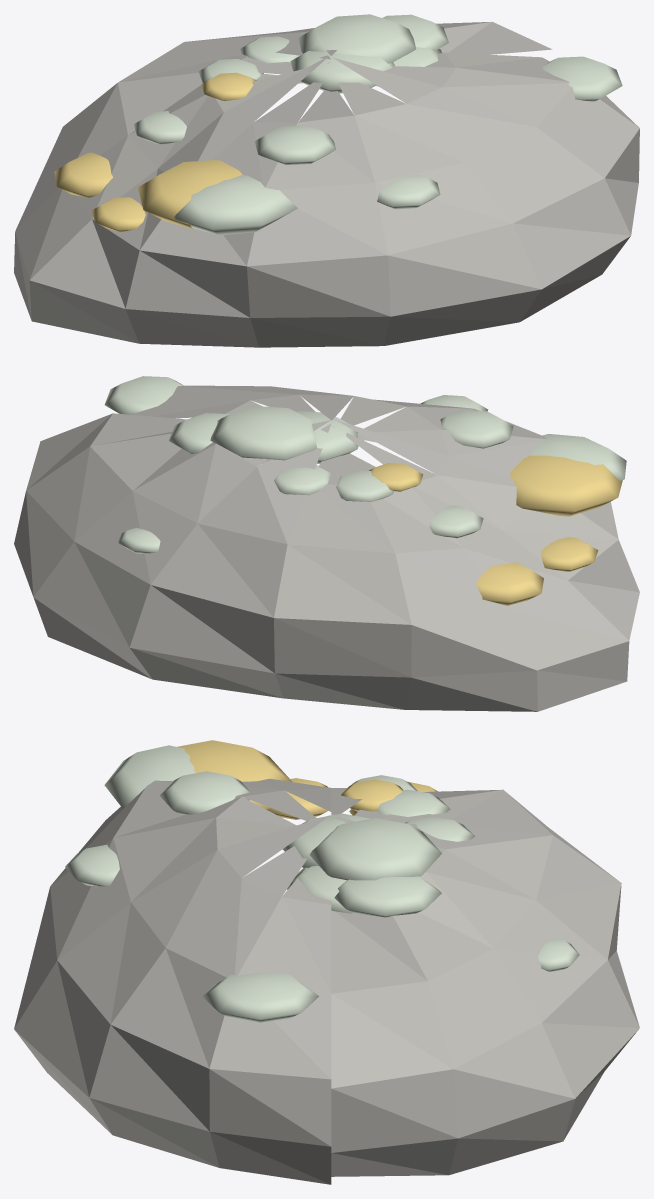
File: plant-lichen.glb
3 views of the same model, one above another, from view 1: azimuth 30°, elevation 25°; view 2: azimuth 150°, elevation 25°; view 3: azimuth 270°, elevation 25° (orthographic). The views are drawn at different scales.
Visible parts, largest first — view 1: Rock; view 2: Rock; view 3: Rock.
Part boxes in pixels (x1=…): Rock: x1=14, y1=14, x2=639, y2=347; Rock: x1=14, y1=376, x2=639, y2=711; Rock: x1=14, y1=740, x2=639, y2=1184.
Size of the model in its own units: 0.2708 by 0.0853 by 0.2129.
